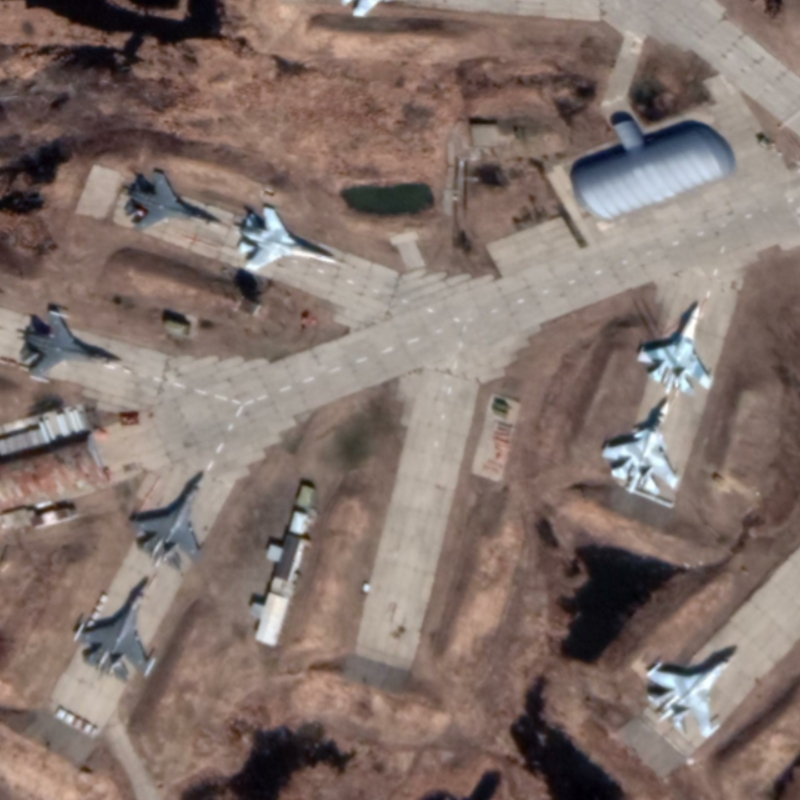A1: (71, 570, 160, 685), (645, 646, 739, 741), (233, 204, 351, 274), (19, 308, 125, 385), (127, 470, 206, 570), (635, 300, 716, 397), (119, 168, 230, 233)
A19: (600, 398, 682, 498)
